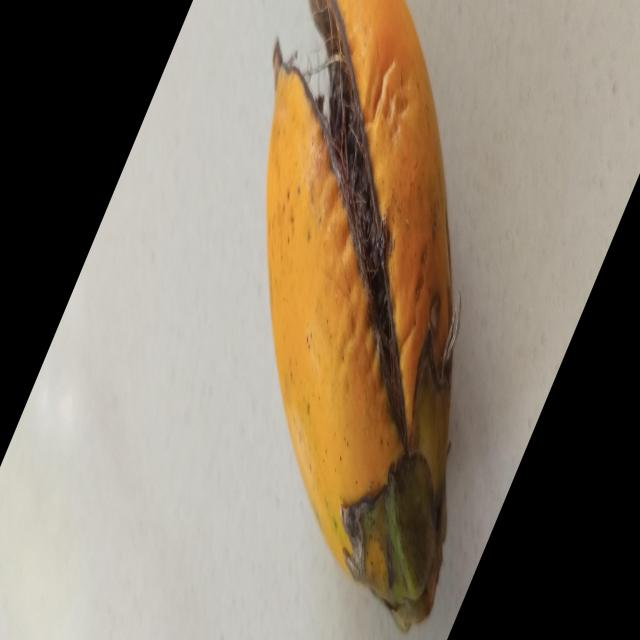damaged: (266, 0, 456, 630)
